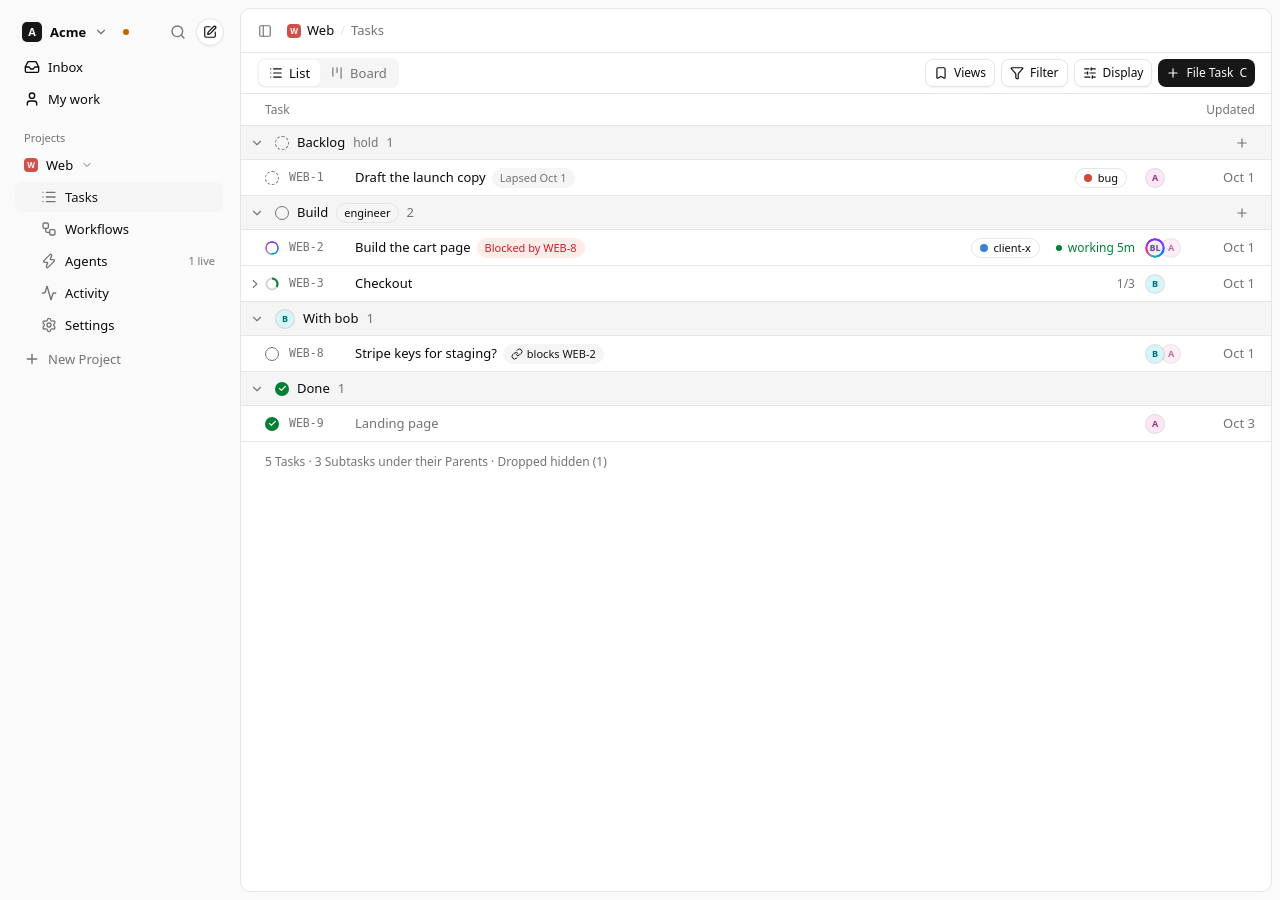
it: File a Task › files in the current Project at its first work Step, showing that Step's Skill and takers
Expected: the link "WEB-2" is shown, [241, 230, 1271, 266]
Type keys "c"
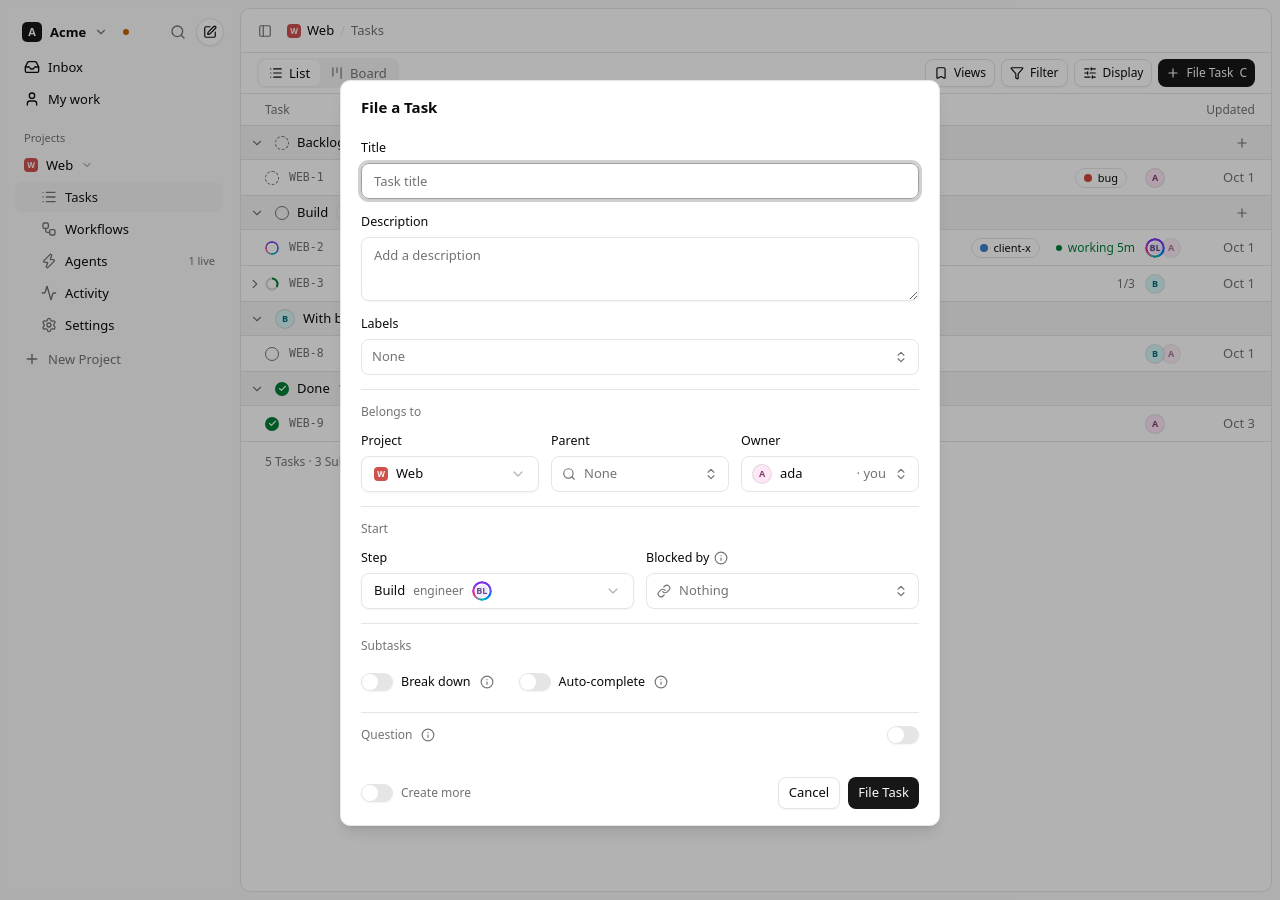
Expected: the dropdown named "Project" shows "Web", [361, 456, 539, 492]
Expected: the dropdown named "Step" shows "Build", [361, 573, 634, 609]
Expected: the dropdown named "Step" shows "engineer", [361, 573, 634, 609]
Type "Gift wrapping" into the field labelled "Title" at x=640, y=181, box [361, 163, 919, 199]
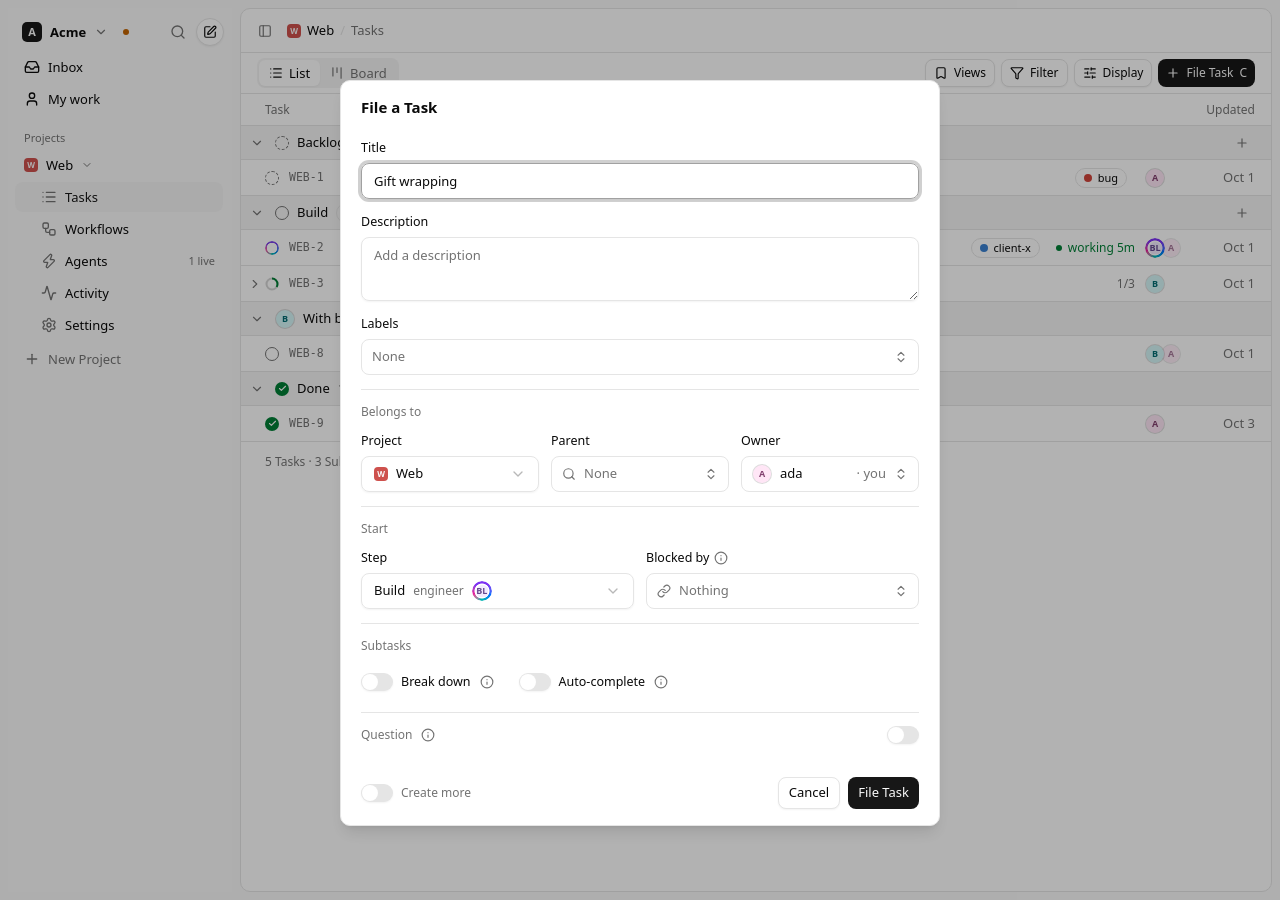
Click the dropdown named "Labels" at x=389, y=356, box [368, 345, 912, 369]
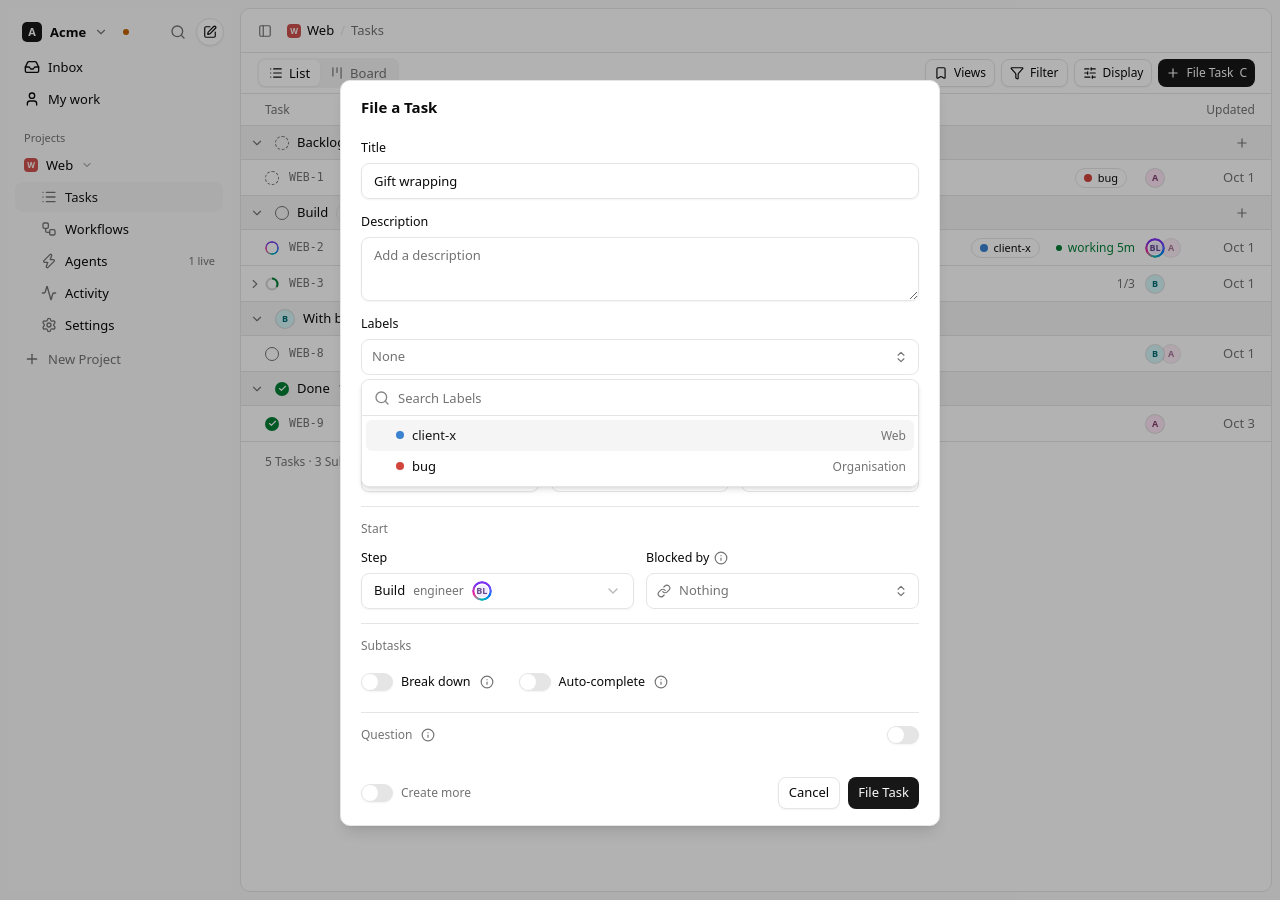
Click the option "client-x Web" at x=434, y=435, box [366, 420, 914, 451]
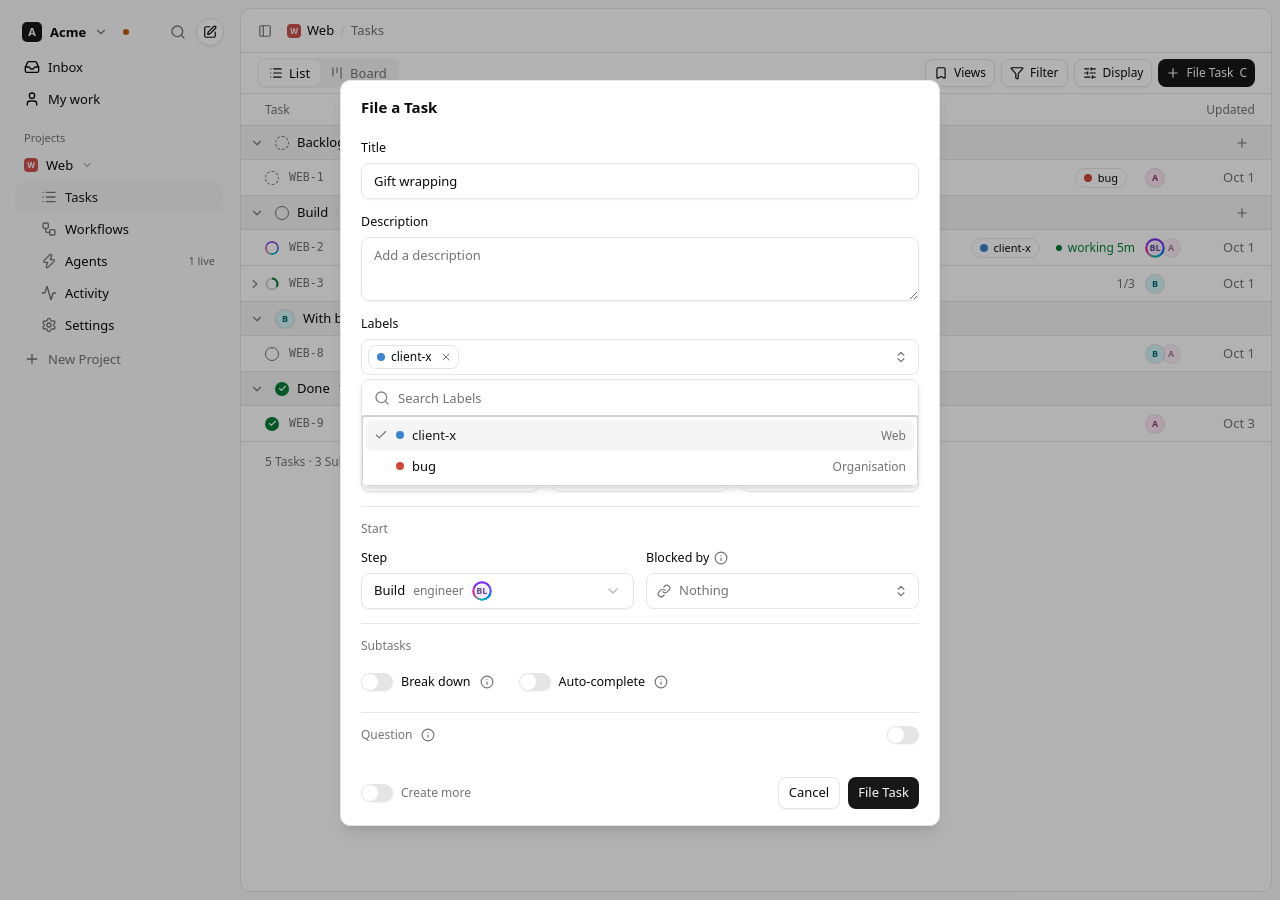
Click the button "File Task" at x=884, y=793, box [848, 777, 919, 809]
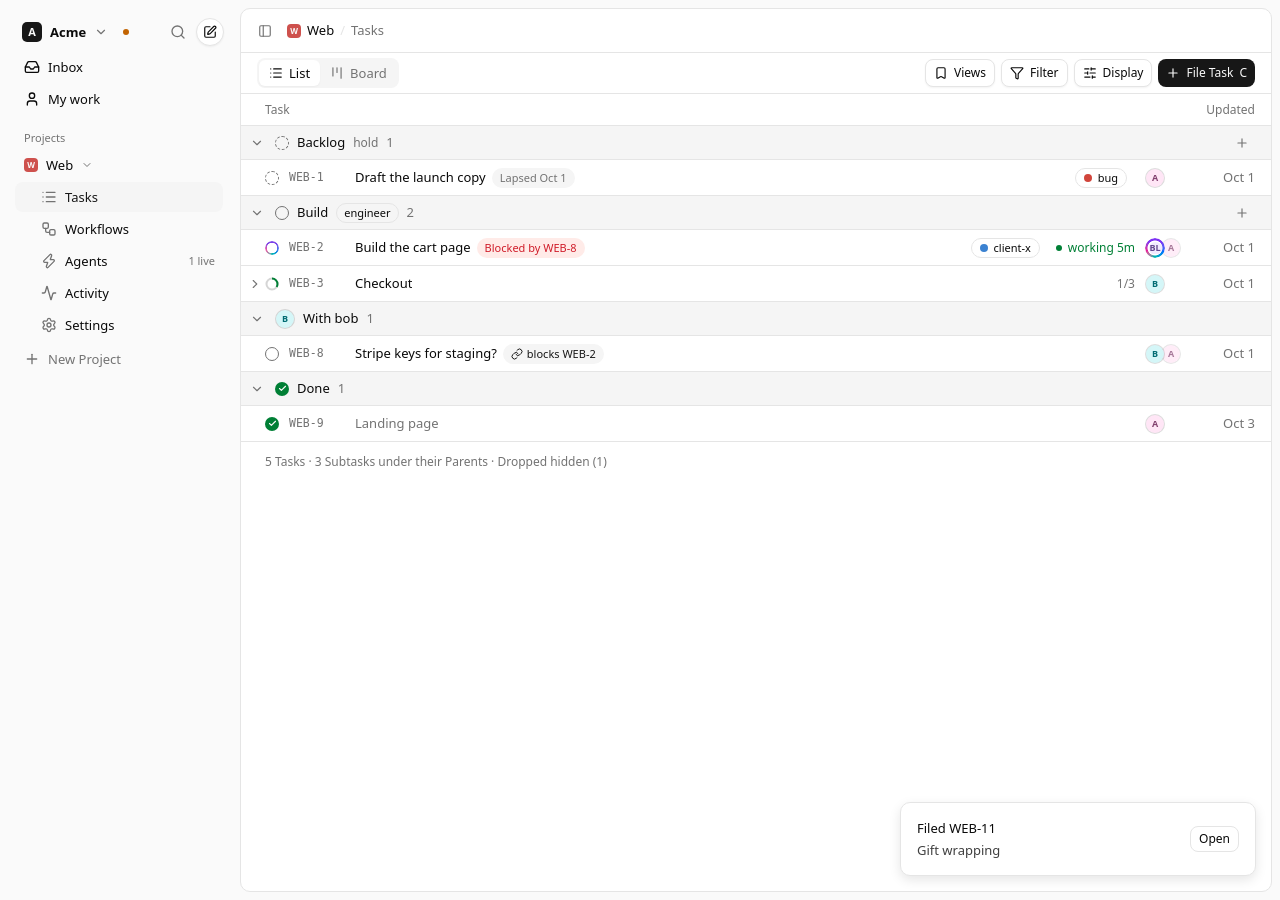
Expected: the text "Filed WEB-11" is shown, [917, 819, 1000, 839]
